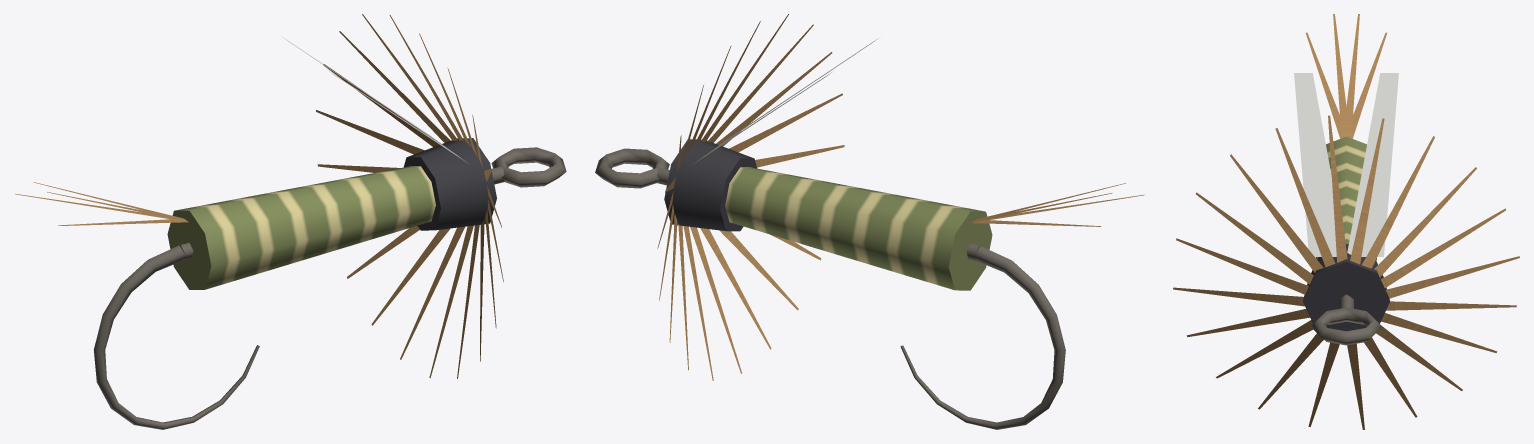
Rendered from lure_fly.fbx.
3 views of the same model, side by side, from view 1: azimuth 30°, elevation 25°; view 2: azimuth 150°, elevation 25°; view 3: azimuth 270°, elevation 25° (orthographic). The views are drawn at different scales.
Parts seen in each view (by area): view 1: lure_fly; view 2: lure_fly; view 3: lure_fly.
Boxes of the visible parts, box(x1,y1,x2,y2) form: lure_fly: box(15, 14, 566, 429); lure_fly: box(595, 14, 1144, 429); lure_fly: box(1173, 14, 1519, 429).
Bounding box in the file's own units: 1.8 × 1.12 × 1.11.
1 material, 1 textured.
